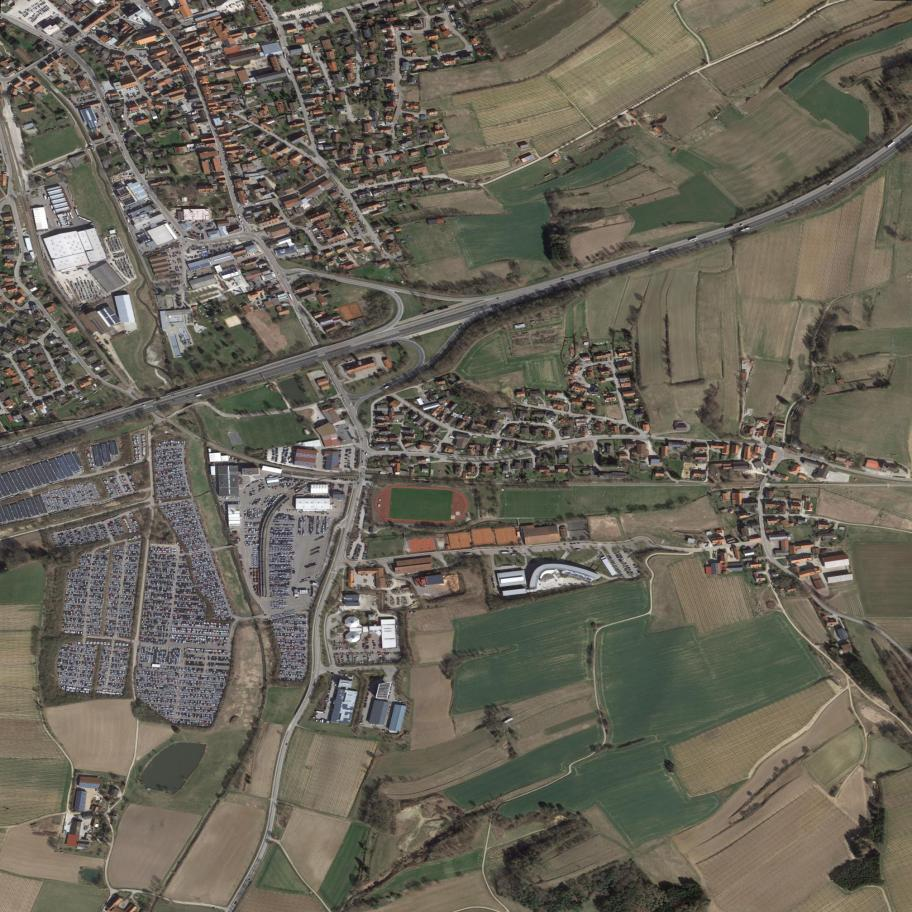large-vehicle: (423, 310, 435, 316), (886, 141, 895, 149), (438, 305, 448, 312), (725, 225, 736, 231), (185, 236, 194, 241), (651, 249, 660, 253), (689, 238, 698, 242), (316, 711, 325, 714), (828, 182, 834, 186), (196, 394, 203, 397), (385, 385, 390, 389), (740, 229, 746, 232), (745, 227, 751, 230), (366, 453, 367, 456)
small-vehicle: (856, 167, 861, 171), (193, 276, 198, 279), (142, 404, 146, 407), (740, 224, 744, 227), (792, 203, 796, 205)
